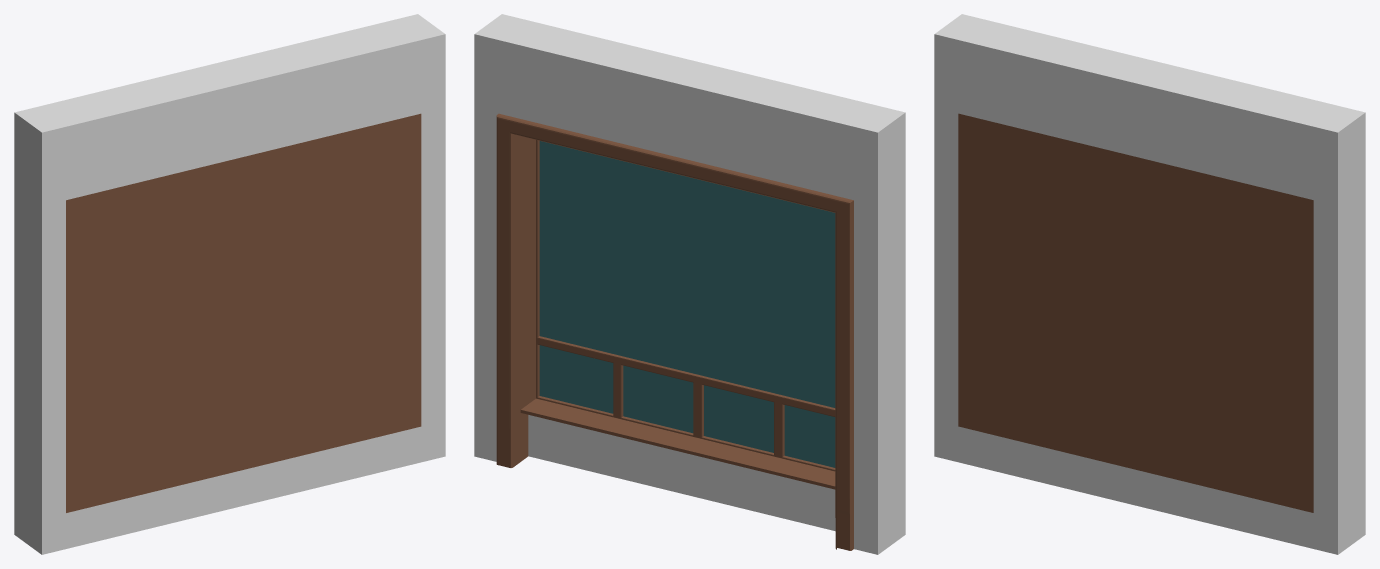
Rendered from Enterance_Window.fbx.
The picture shows the model from 3 angles, left to right: view 1: azimuth 30°, elevation 25°; view 2: azimuth 150°, elevation 25°; view 3: azimuth 330°, elevation 25°; orthographic projection.
Visible parts, largest first — view 1: Enterance_Window; view 2: Enterance_Window; view 3: Enterance_Window.
Boxes of the visible parts, bbox=[...] form: Enterance_Window: bbox=[14, 14, 445, 554]; Enterance_Window: bbox=[474, 14, 905, 554]; Enterance_Window: bbox=[934, 14, 1365, 554].
Bounding box in the file's own units: 400 × 402 × 52.33.
Materials: 2 (2 with a texture image).
